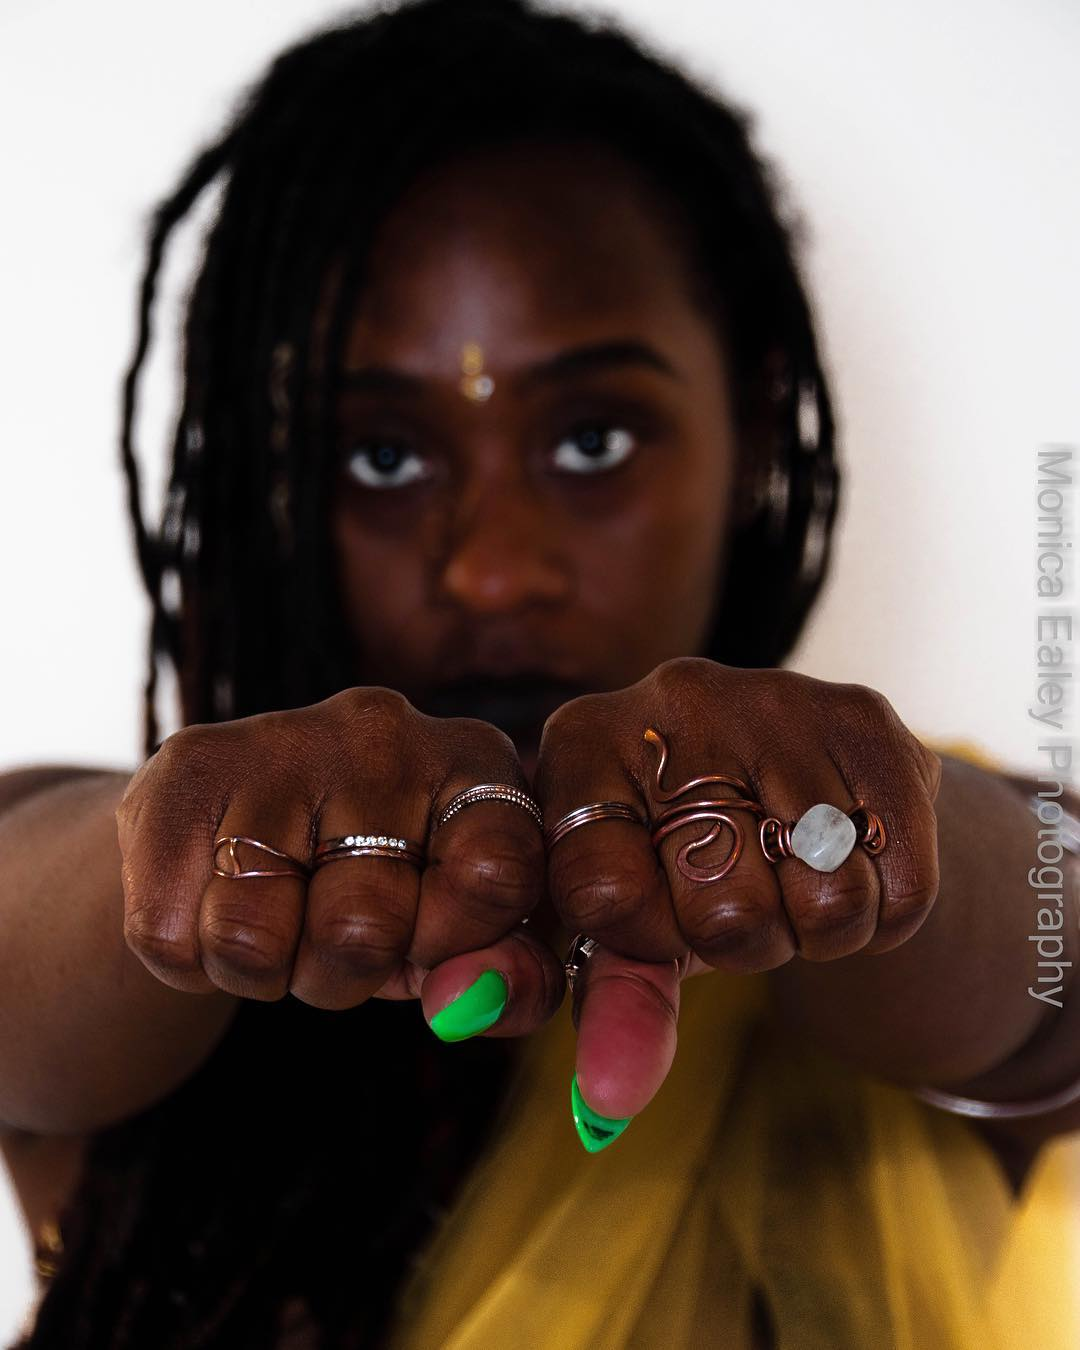hand: (156, 762, 520, 1009)
